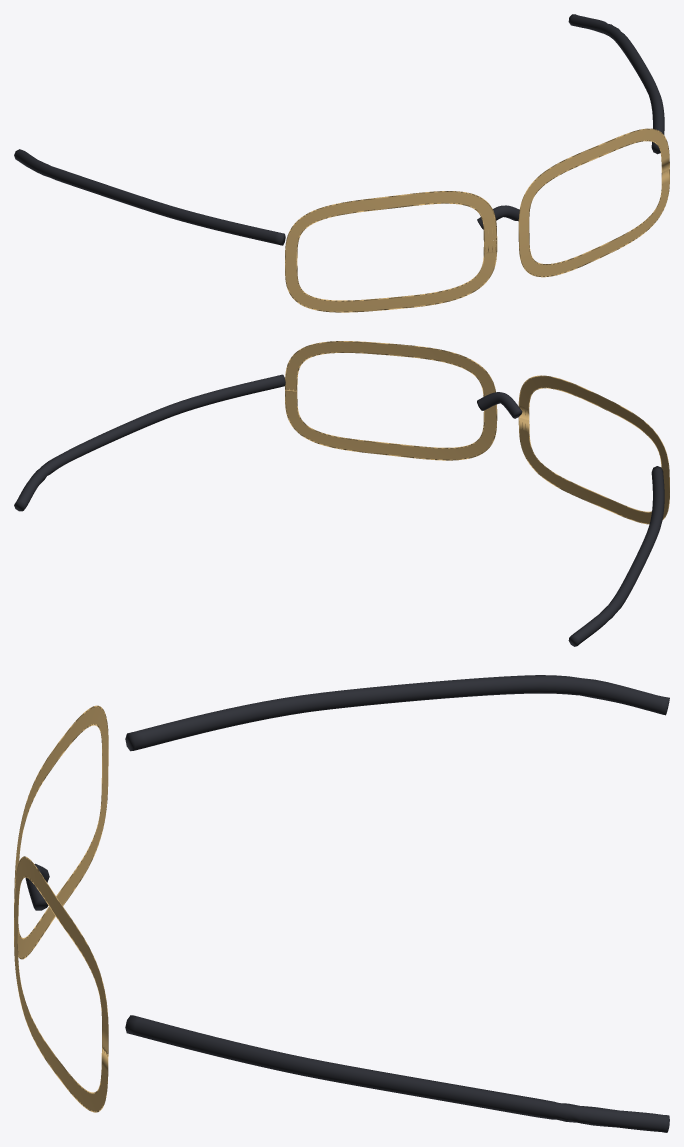
File: Feminine-Feminine-reading-glasses-b39c32dc.glb
3 views of the same model, one above another, from view 1: azimuth 30°, elevation 25°; view 2: azimuth 150°, elevation 25°; view 3: azimuth 270°, elevation 25° (orthographic). The views are drawn at different scales.
Parts seen in each view (by area): view 1: 226 glasses / Accessory / warm metal226, 226 glasses / Glasses / frame226; view 2: 226 glasses / Accessory / warm metal226, 226 glasses / Glasses / frame226; view 3: 226 glasses / Glasses / frame226, 226 glasses / Accessory / warm metal226.
Part boxes in pixels (x1,y1,x2,y2): 226 glasses / Accessory / warm metal226: (285,128,669,312); 226 glasses / Glasses / frame226: (14,14,664,245); 226 glasses / Accessory / warm metal226: (285,341,669,524); 226 glasses / Glasses / frame226: (14,374,664,646); 226 glasses / Glasses / frame226: (25,675,669,1132); 226 glasses / Accessory / warm metal226: (14,705,108,1112).
Size of the model in its own units: 0.9971 by 0.1871 by 0.6346.
